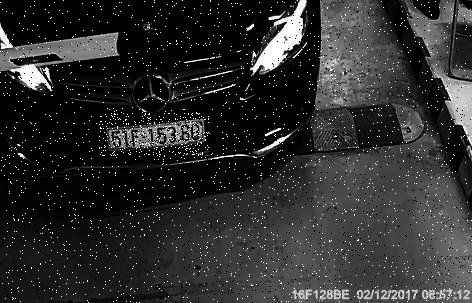License-plate: (99, 114, 210, 157)
